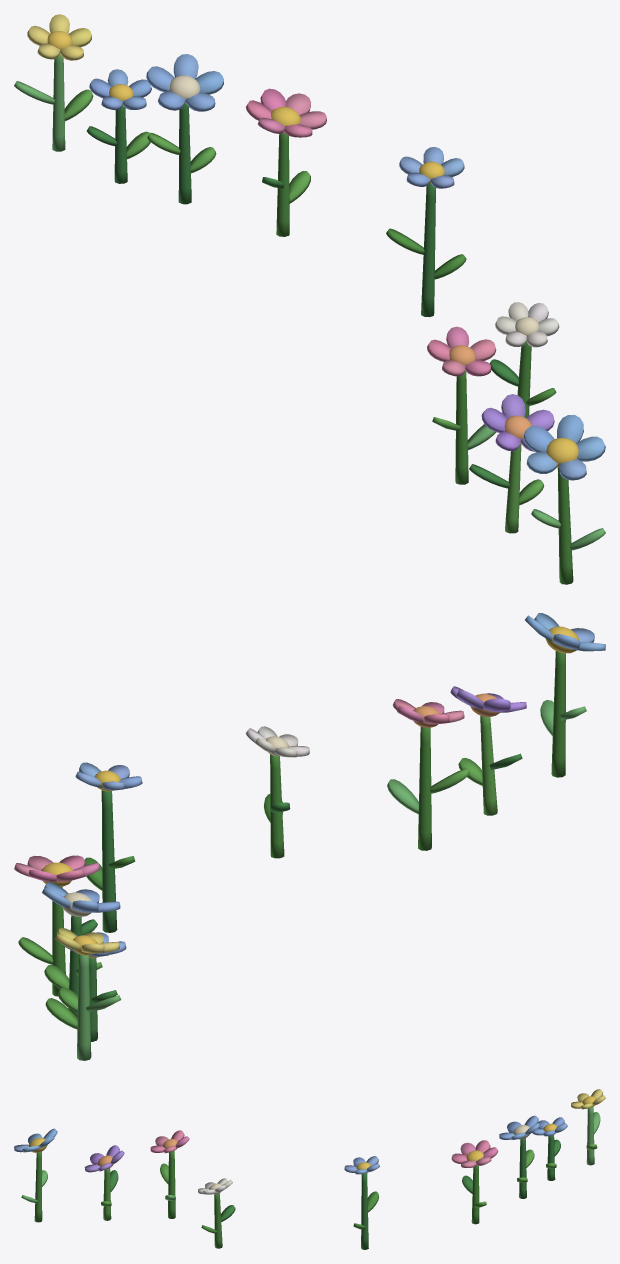
The model's file is W3_FloraRing_7_11.fbx.
3 renders of one model, top to bottom at view 1: azimuth 30°, elevation 25°; view 2: azimuth 150°, elevation 25°; view 3: azimuth 270°, elevation 25°, orthographic. The views are drawn at different scales.
Visible parts, largest first — view 1: W3_FloraRing_7_11; view 2: W3_FloraRing_7_11; view 3: W3_FloraRing_7_11.
Part boxes in pixels (x1,y1,x2,y2): W3_FloraRing_7_11: (14, 14, 605, 584); W3_FloraRing_7_11: (14, 613, 605, 1060); W3_FloraRing_7_11: (14, 1089, 605, 1249).
Size of the model in its own units: 0.3445 by 0.287 by 1.27.
